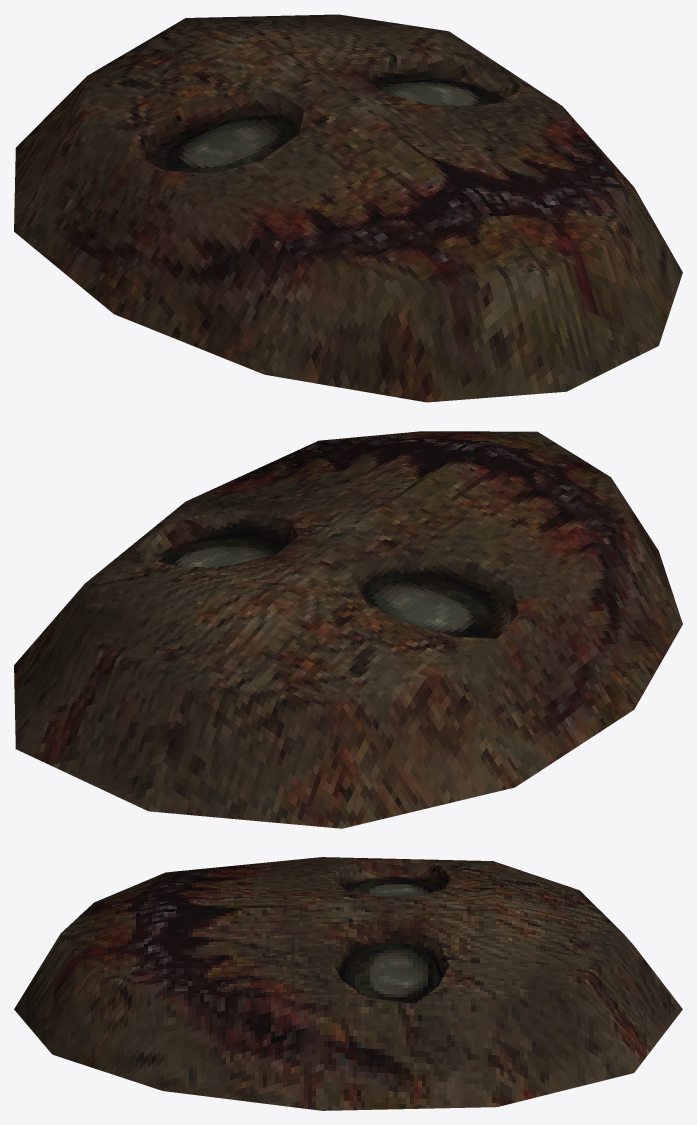
Rendered from mask_mx_2_1.glb.
3 renders of one model, top to bottom at view 1: azimuth 30°, elevation 25°; view 2: azimuth 150°, elevation 25°; view 3: azimuth 270°, elevation 25°, orthographic. The views are drawn at different scales.
Visible parts, largest first — view 1: mask_mx_2_1; view 2: mask_mx_2_1; view 3: mask_mx_2_1.
Part boxes in pixels (x1,y1,x2,y2): mask_mx_2_1: [14, 14, 682, 402]; mask_mx_2_1: [14, 431, 682, 828]; mask_mx_2_1: [14, 857, 682, 1110].
Bounding box in the file's own units: 0.2297 × 0.0554 × 0.3198.
1 material, 1 textured.
